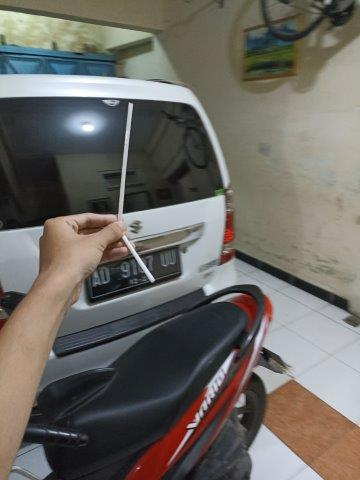sedotan: (117, 105, 154, 283)
